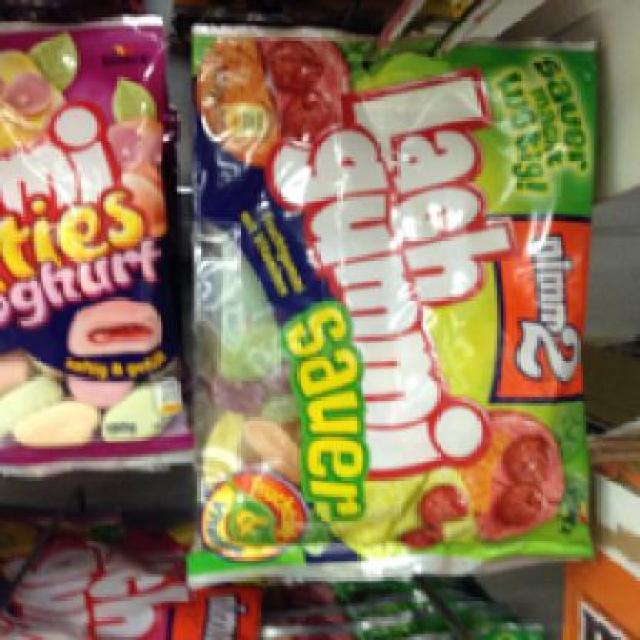Candy: (186, 26, 594, 574), (0, 13, 172, 475)
